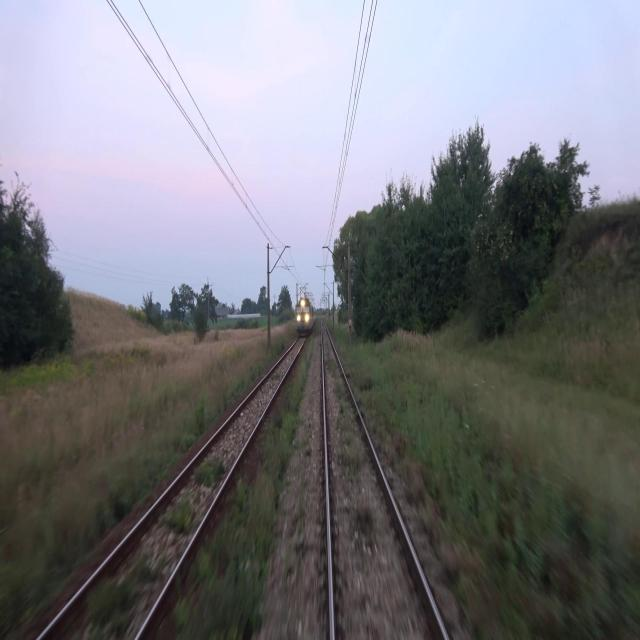rail-track: (42, 336, 304, 639), (322, 323, 444, 639)
